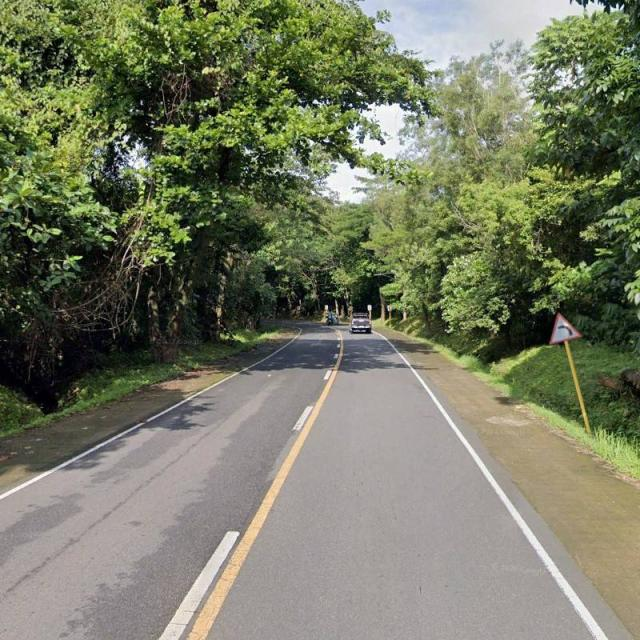warn_left_curve: (549, 313, 582, 345)
